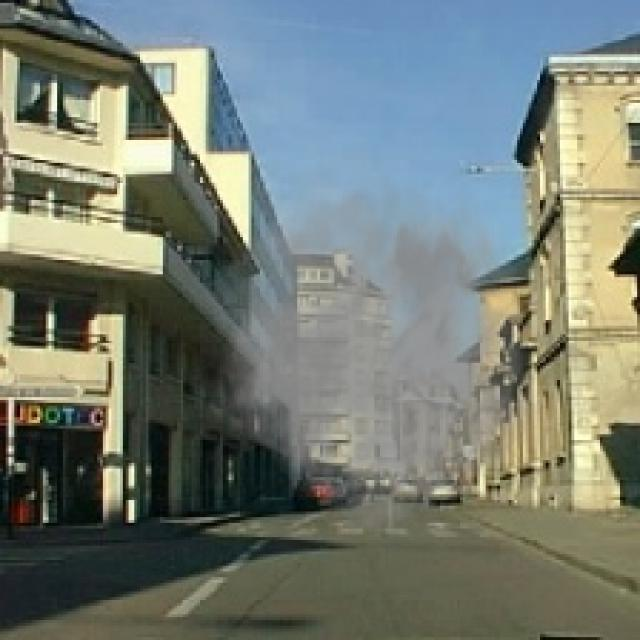Smoke: (194, 142, 543, 534)
